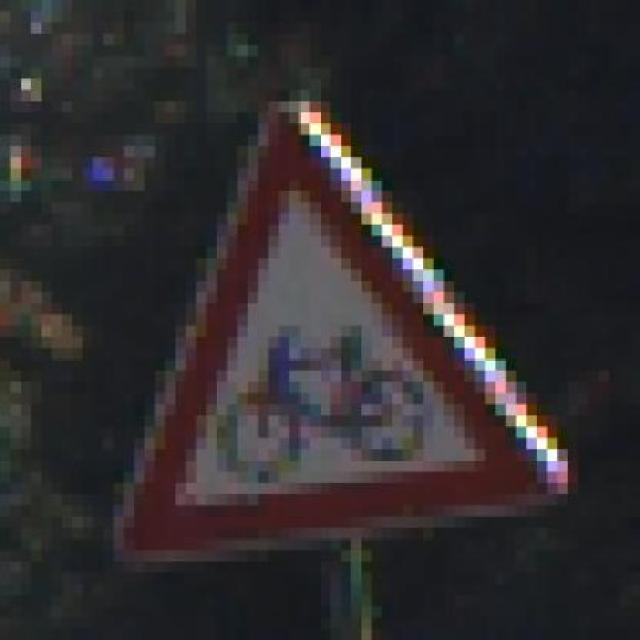CYCLE ROUTE AHEAD WARNING: (62, 101, 588, 573)
